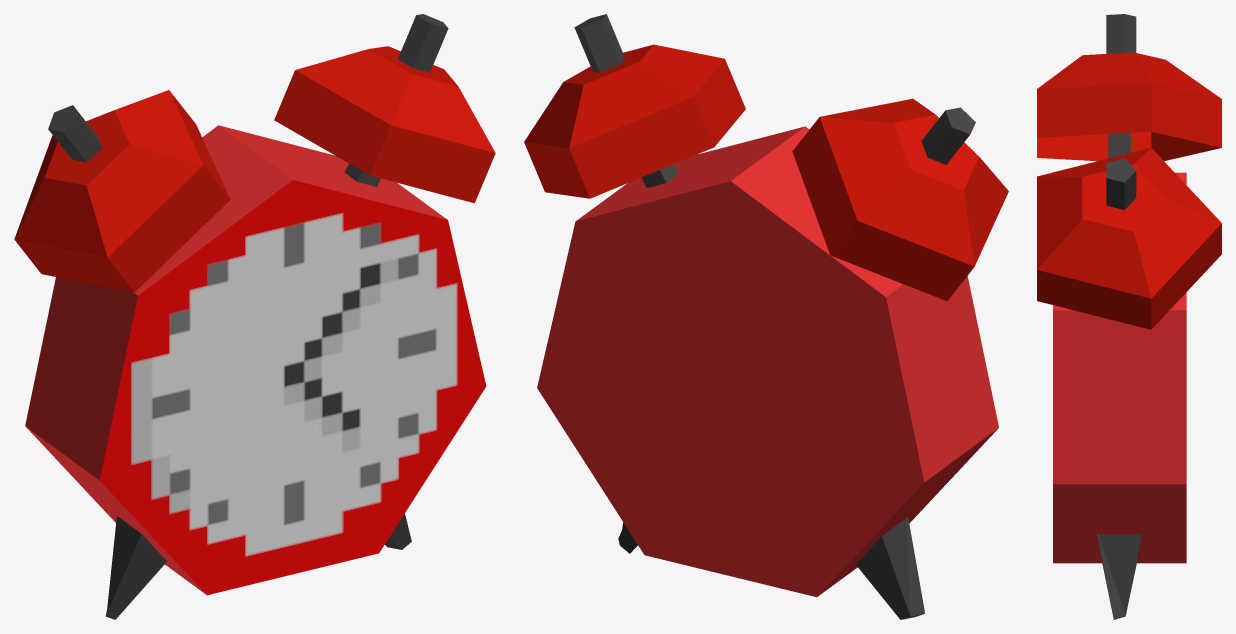
Rendered from Clock.dae.
3 views of the same model, side by side, from view 1: azimuth 30°, elevation 25°; view 2: azimuth 150°, elevation 25°; view 3: azimuth 270°, elevation 25° (orthographic). The views are drawn at different scales.
Visible parts, largest first — view 1: Clock; view 2: Clock; view 3: Clock.
Boxes of the visible parts, box(x1,y1,x2,y2) form: Clock: box(14, 14, 495, 619); Clock: box(524, 14, 1008, 619); Clock: box(1037, 14, 1221, 619).
Size of the model in its own units: 1.2 by 0.4772 by 1.34.
3 materials, 1 textured.
